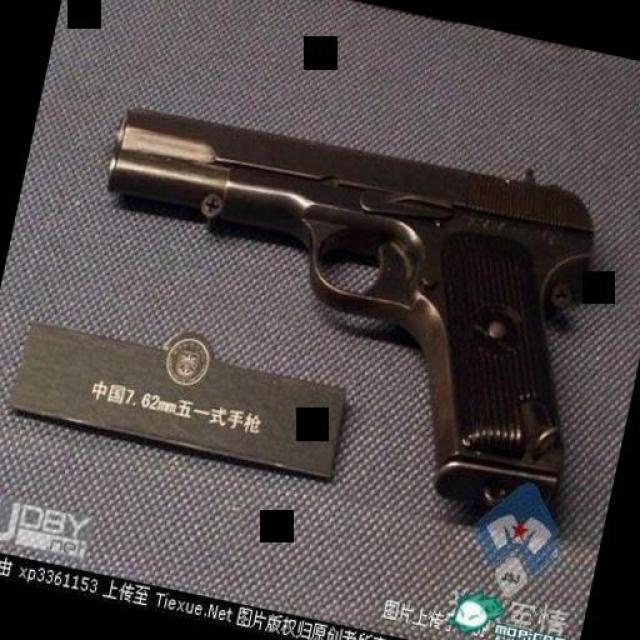gun: (50, 80, 618, 535)
